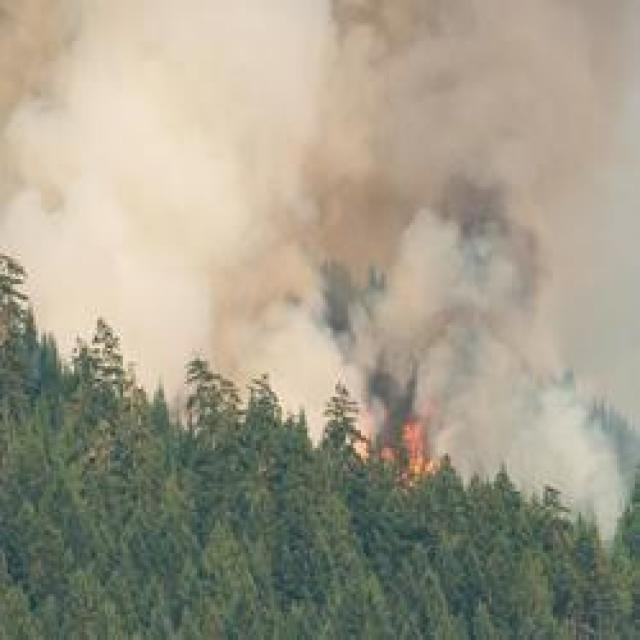Fire: (318, 384, 466, 504)
Smoke: (4, 0, 636, 364)
